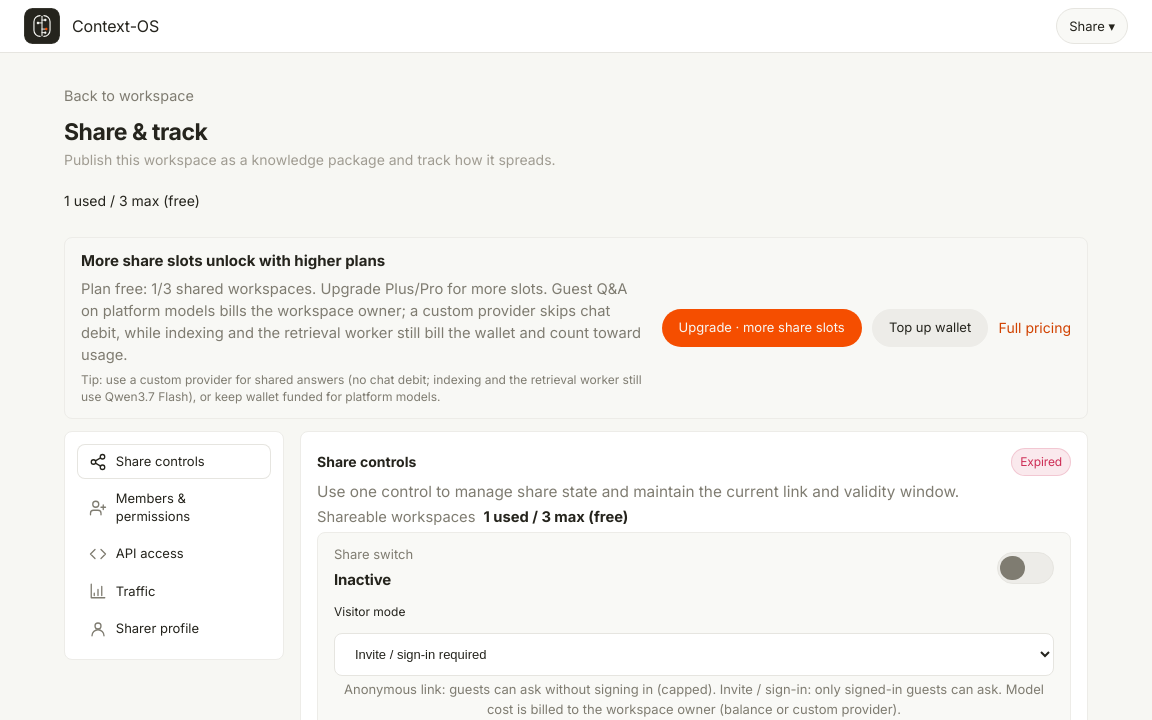
Test: WorkspaceShareCenterSurface › loads analytics in the overview section
Click the button "Traffic": (174, 591) [77,574,271,609]
(page scrolled)
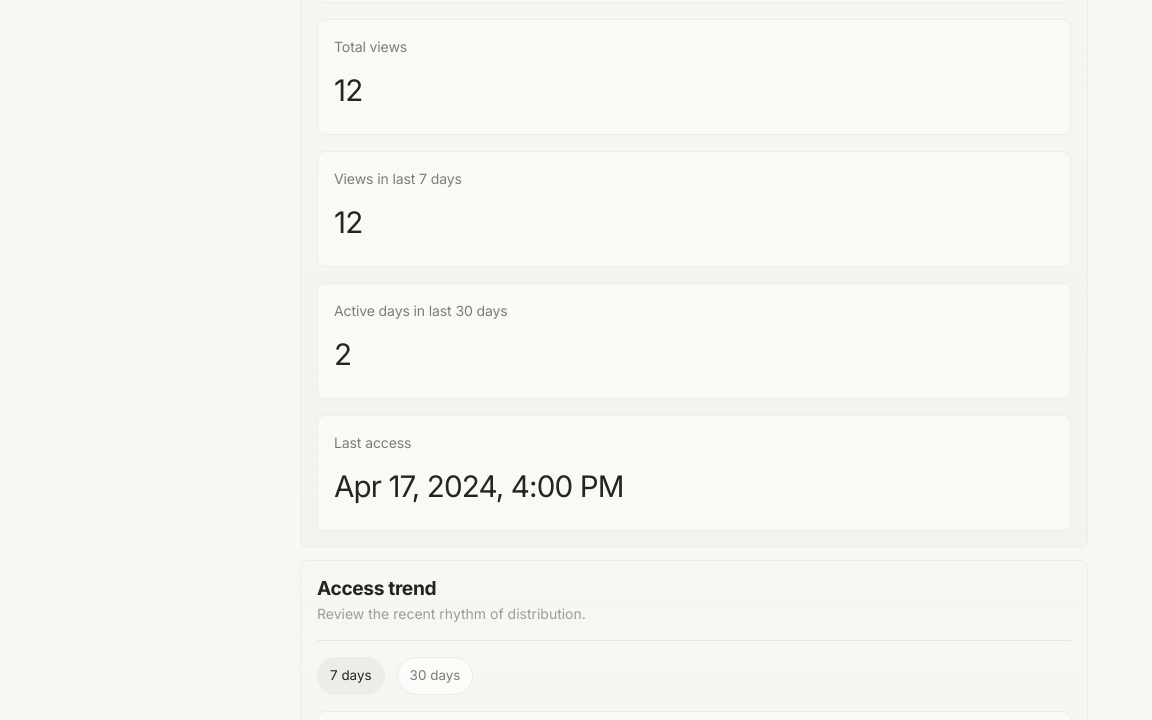
expect the heading "Total views" is shown: met, box [334,38,407,55]
expect the heading "Active days in last 30 days" is shown: met, box [334,302,508,319]
expect the text "12" below "Total views" is shown: met, box [334,72,362,108]
